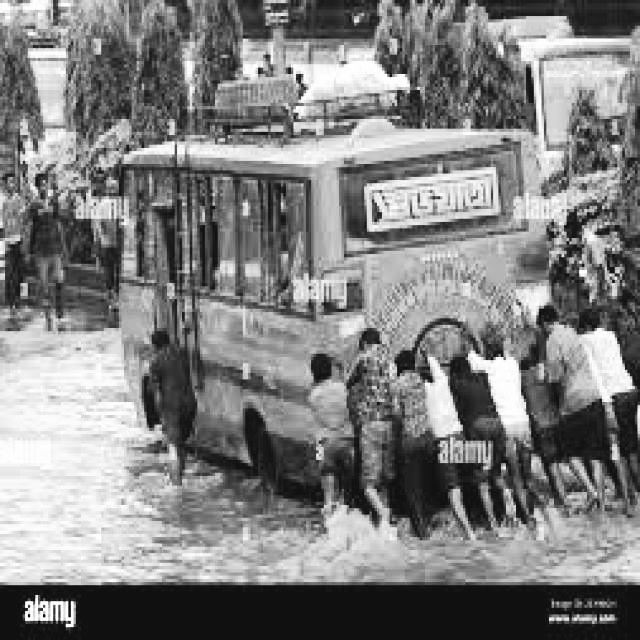Bus: (108, 90, 568, 484)
